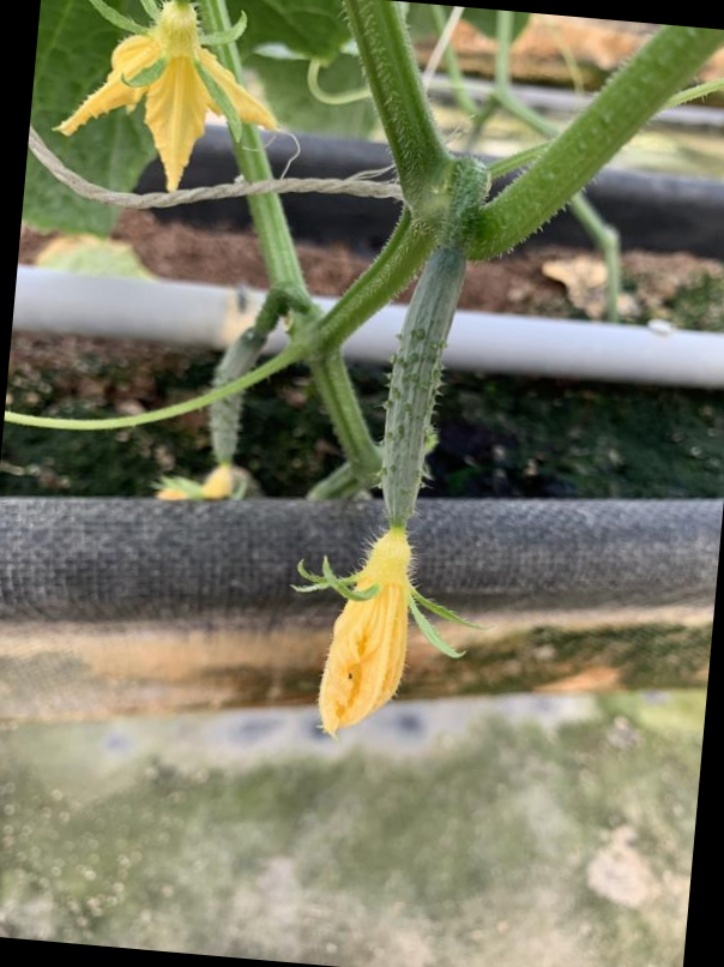bear: (315, 236, 479, 730)
